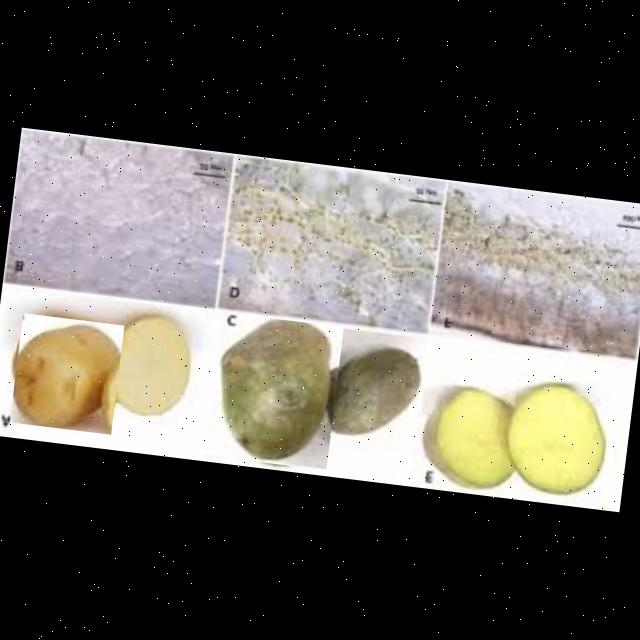Defected potato: (204, 312, 344, 470), (311, 331, 432, 455)
Potato: (9, 312, 124, 434)
